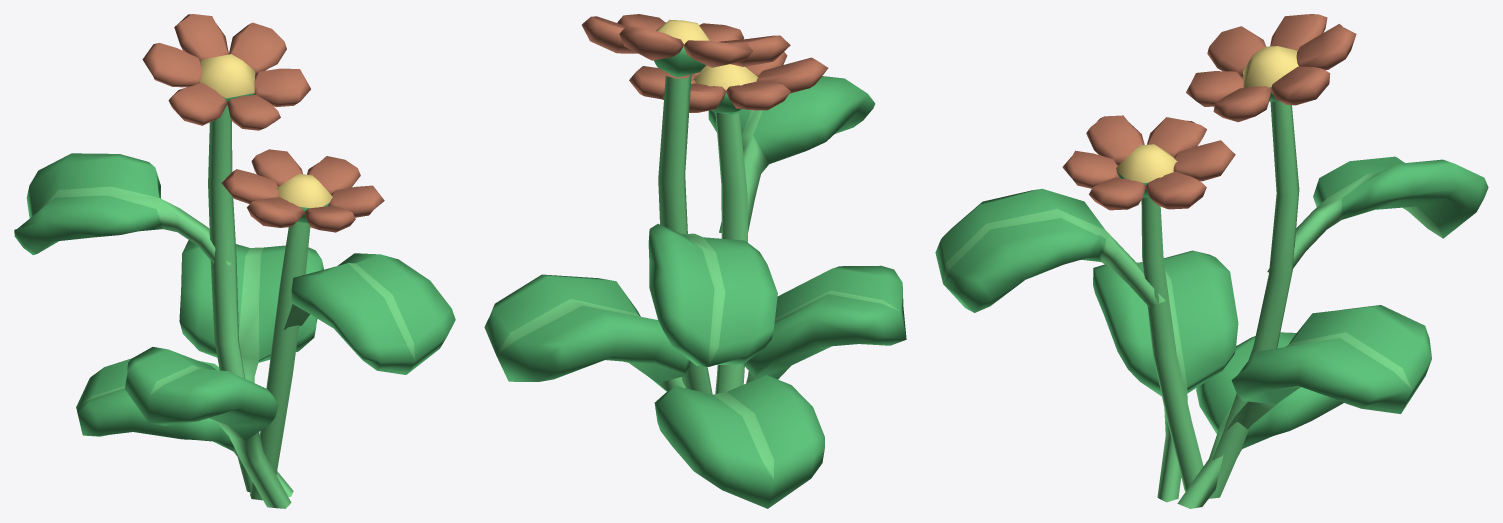
Rendered from Flora_A_03_LOD2.gltf.
The picture shows the model from 3 angles, left to right: view 1: azimuth 30°, elevation 25°; view 2: azimuth 150°, elevation 25°; view 3: azimuth 270°, elevation 25°; orthographic projection. The views are drawn at different scales.
Parts seen in each view (by area): view 1: Flora_A_03_LOD2_Plane.043; view 2: Flora_A_03_LOD2_Plane.043; view 3: Flora_A_03_LOD2_Plane.043.
Part boxes in pixels (x1,y1,x2,y2): Flora_A_03_LOD2_Plane.043: [14, 14, 455, 508]; Flora_A_03_LOD2_Plane.043: [484, 14, 906, 508]; Flora_A_03_LOD2_Plane.043: [935, 14, 1488, 508].
Size of the model in its own units: 3.62 by 5.5 by 5.89.
Materials: 1 (1 with a texture image).
